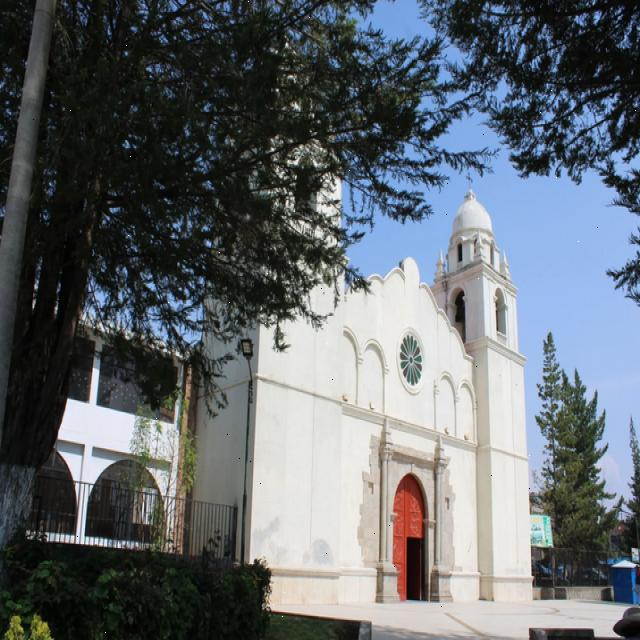CAMPANARIO: (421, 264, 537, 369)
CUPULA: (446, 195, 502, 249)
PORTADA CENTRAL: (381, 431, 429, 619)
SIMETRIA COLONIAL: (216, 73, 554, 631)
TORRES: (201, 32, 345, 620), (435, 232, 538, 610)
colonial-architecture-: (170, 35, 588, 620)
